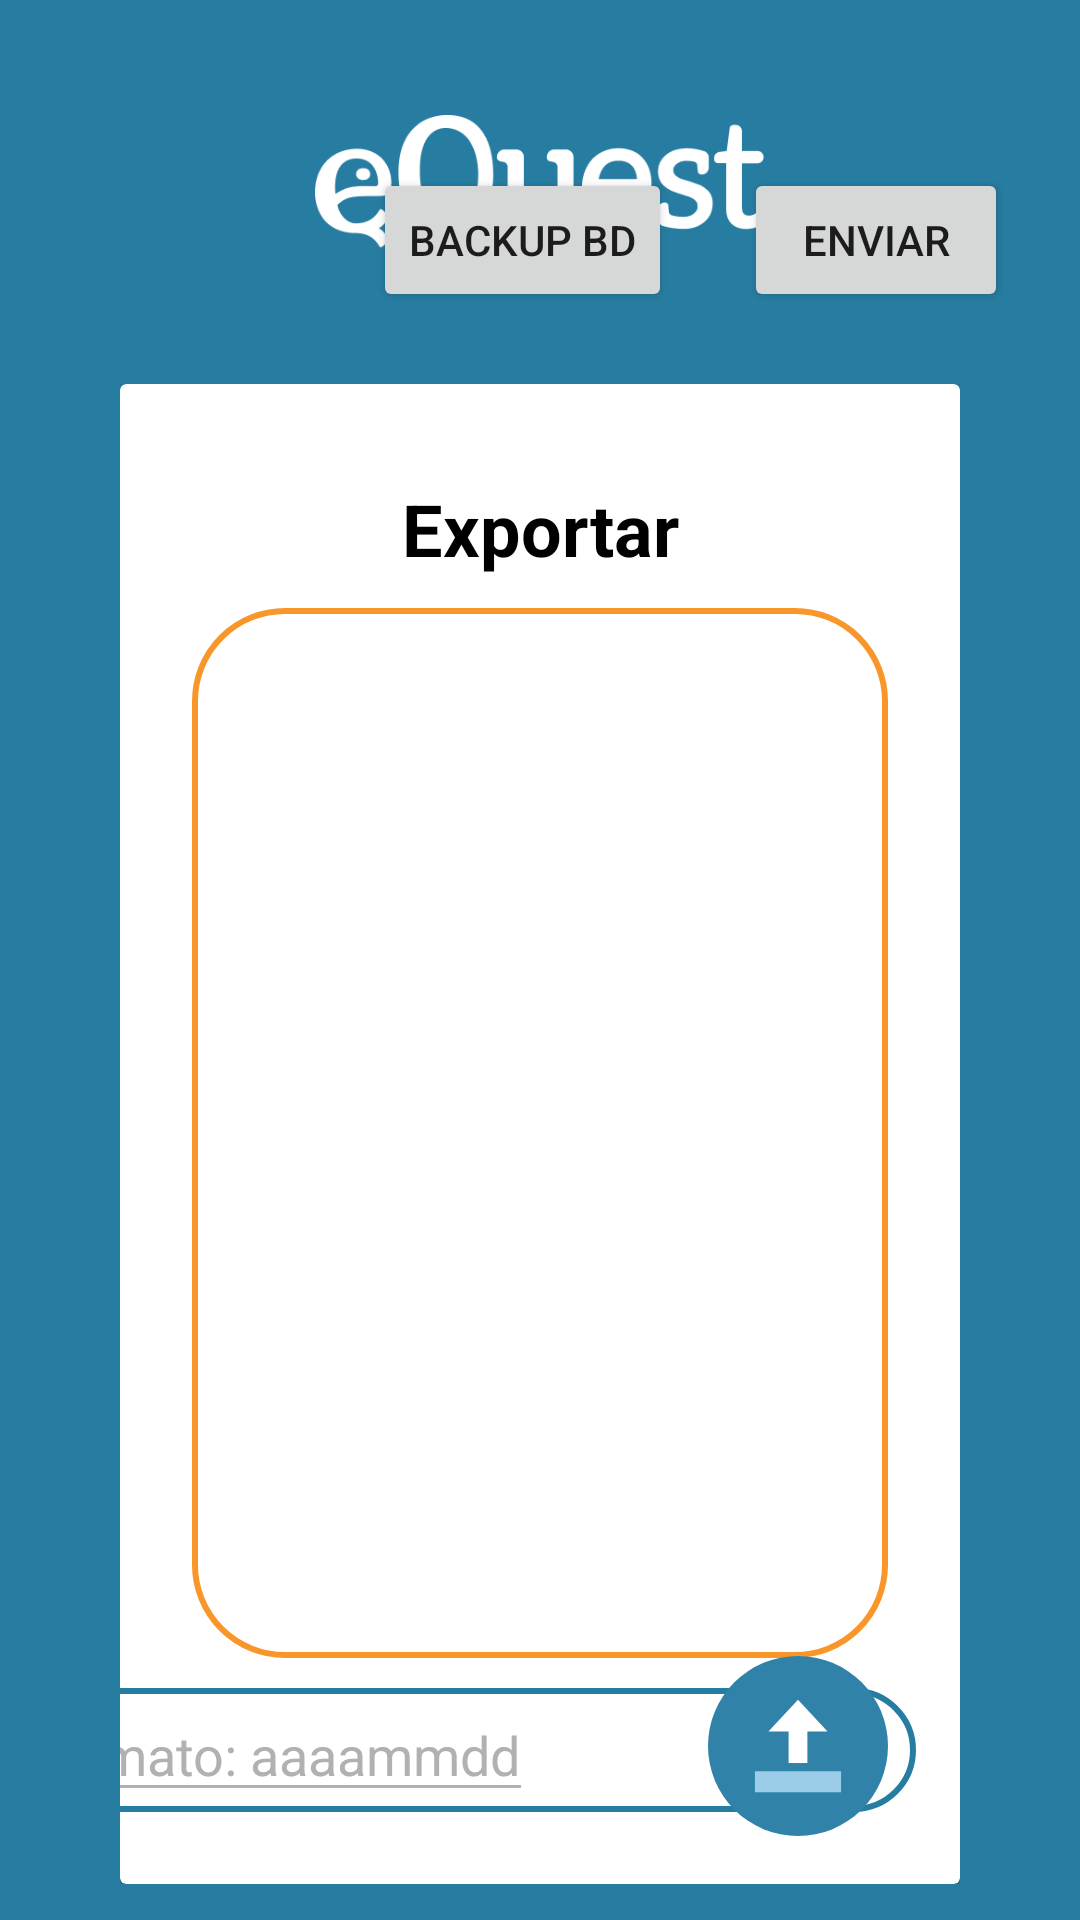

Where icons sit on this 1080*1920 app screen, as Rect(x1, y1, x2, y2):
submit questionnaire: Rect(660, 1584, 960, 1884)
